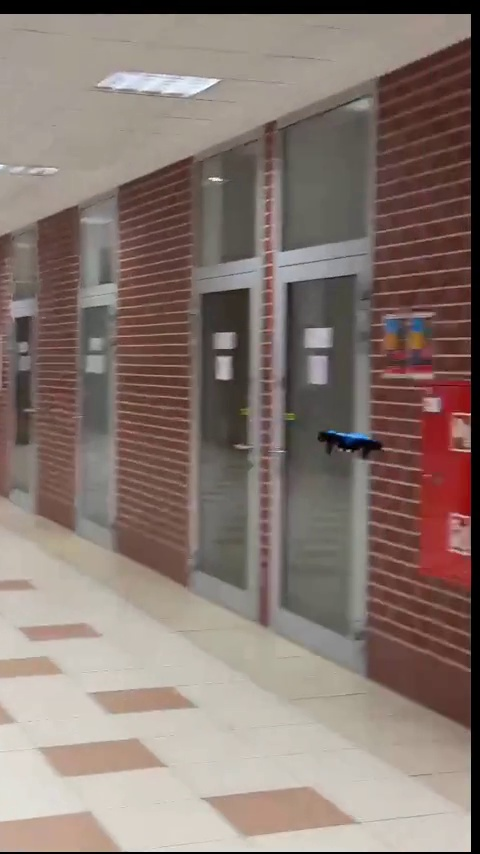drone: (319, 427, 384, 458)
